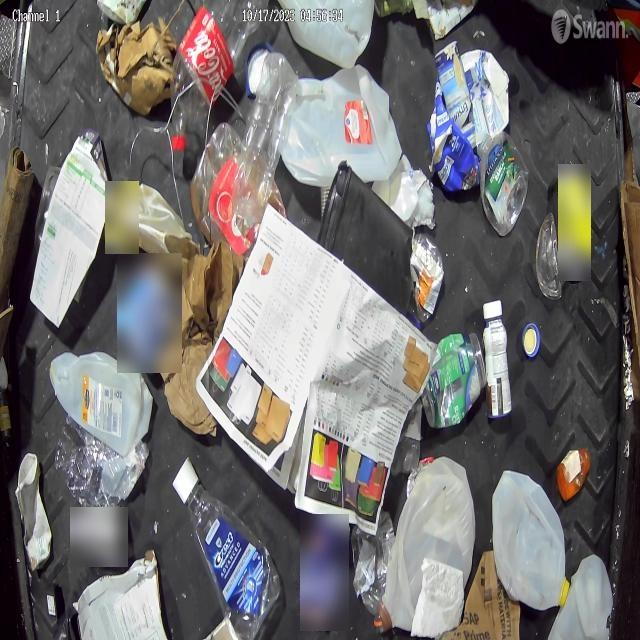milk_jug: (394, 452, 476, 638), (278, 68, 401, 190), (491, 468, 569, 611), (48, 350, 152, 454), (543, 552, 614, 640)
plastic_bottle: (170, 0, 262, 153)
